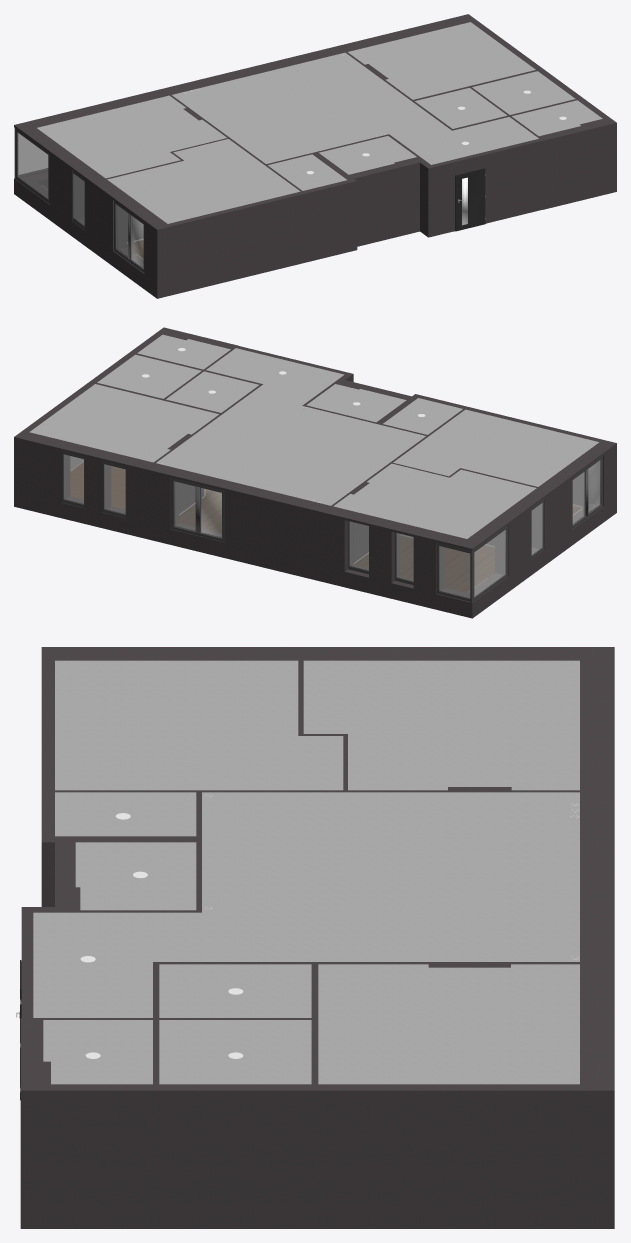
File: apt-3room2.glb
3 renders of one model, top to bottom at view 1: azimuth 30°, elevation 25°; view 2: azimuth 150°, elevation 25°; view 3: azimuth 270°, elevation 25°, orthographic. The views are drawn at different scales.
Visible parts, largest first — view 1: Ceiling, Walls, dvere, B_1_4_1_Exterior_Glass.002, B_1_4_2_Interior_Glasss.002, B_2_4_1Exterior_Glass.001, B_2_4_2_Exterior_Glass..001, B_2_4_3_Interior_Glass..001, B_1_4_1_Exterior_Glass.006, B_1_4_2_Interior_Glasss.006, B_2_4_4_Interior_Glass.001, B_1_1_1_PVC_Window_Frame..002 (+1 smaller); view 2: Ceiling, Walls, Floor_LivingRoom_1, B_1_4_1_Exterior_Glass.002, B_1_4_2_Interior_Glasss.002, B_1_4_1_Exterior_Glass.003, B_1_4_2_Interior_Glasss.003, Floor_Bedroom, Floor_Kitchen, B_1_4_1_Exterior_Glass, B_1_4_2_Interior_Glasss, B_2_4_1Exterior_Glass (+22 smaller); view 3: Ceiling, Walls.
Part boxes in pixels (x1=…): Ceiling: x1=37, y1=22, x2=602, y2=223; Walls: x1=14, y1=14, x2=616, y2=298; dvere: x1=455, y1=168, x2=485, y2=231; B_1_4_1_Exterior_Glass.002: x1=17, y1=133, x2=47, y2=198; B_1_4_2_Interior_Glasss.002: x1=17, y1=133, x2=47, y2=198; B_2_4_1Exterior_Glass.001: x1=132, y1=216, x2=143, y2=267; B_2_4_2_Exterior_Glass..001: x1=116, y1=205, x2=127, y2=256; B_2_4_3_Interior_Glass..001: x1=132, y1=216, x2=143, y2=267; B_1_4_1_Exterior_Glass.006: x1=74, y1=174, x2=84, y2=225; B_1_4_2_Interior_Glasss.006: x1=74, y1=174, x2=84, y2=224; B_2_4_4_Interior_Glass.001: x1=117, y1=205, x2=127, y2=256; B_1_1_1_PVC_Window_Frame..002: x1=14, y1=128, x2=49, y2=203; Ceiling: x1=29, y1=334, x2=599, y2=538; Walls: x1=14, y1=327, x2=616, y2=618; Floor_LivingRoom_1: x1=354, y1=536, x2=494, y2=592; B_1_4_1_Exterior_Glass.002: x1=474, y1=530, x2=505, y2=596; B_1_4_2_Interior_Glasss.002: x1=474, y1=530, x2=505, y2=596; B_1_4_1_Exterior_Glass.003: x1=439, y1=546, x2=469, y2=597; B_1_4_2_Interior_Glasss.003: x1=439, y1=546, x2=469, y2=597; Floor_Bedroom: x1=70, y1=462, x2=209, y2=509; Floor_Kitchen: x1=179, y1=491, x2=221, y2=532; B_1_4_1_Exterior_Glass: x1=104, y1=464, x2=125, y2=513; B_1_4_2_Interior_Glasss: x1=104, y1=465, x2=125, y2=513; B_2_4_1Exterior_Glass: x1=201, y1=488, x2=221, y2=537; Ceiling: x1=33, y1=660, x2=579, y2=1084; Walls: x1=20, y1=647, x2=614, y2=1228.
Size of the model in its own units: 19.97 by 2.91 by 11.39.
Materials: 40 (12 with a texture image).
